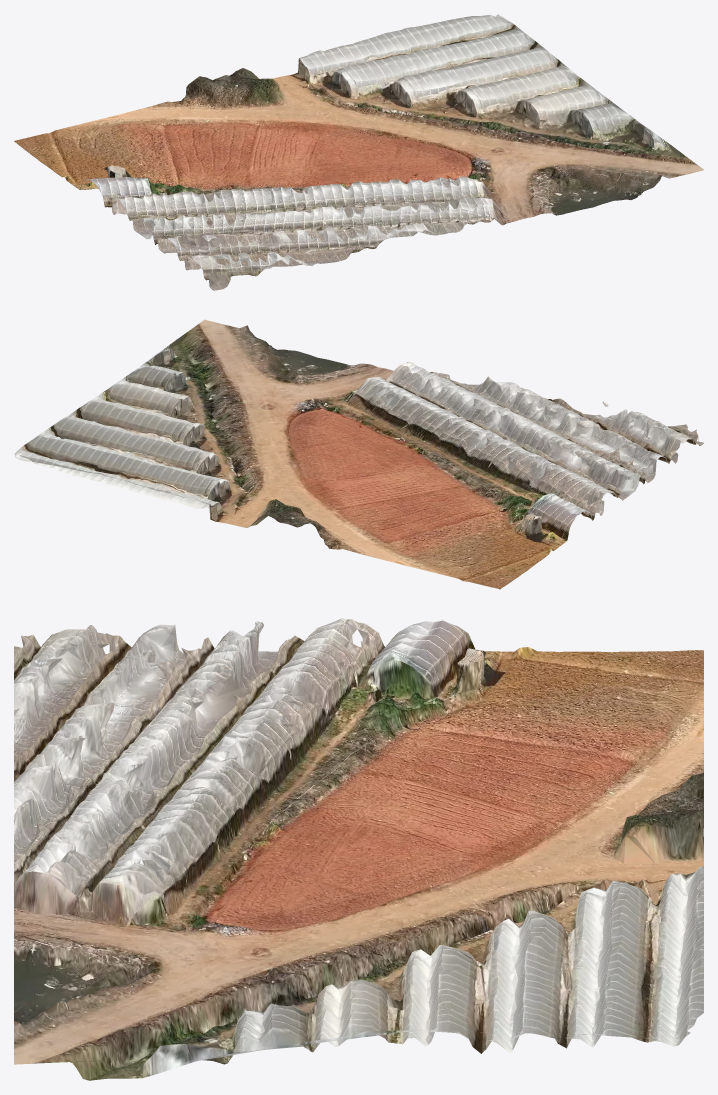
The model's file is BlockYY_L19_1.glb.
The picture shows the model from 3 angles, top to bottom: view 1: azimuth 30°, elevation 25°; view 2: azimuth 150°, elevation 25°; view 3: azimuth 270°, elevation 25°; orthographic projection. The views are drawn at different scales.
Visible parts, largest first — view 1: rtc; view 2: rtc; view 3: rtc.
Boxes of the visible parts, <box> form: rtc: <box>14,14,703,290</box>; rtc: <box>14,319,703,589</box>; rtc: <box>14,618,703,1080</box>.
Size of the model in its own units: 62.39 by 4.1 by 43.96.
4 materials, 4 textured.
